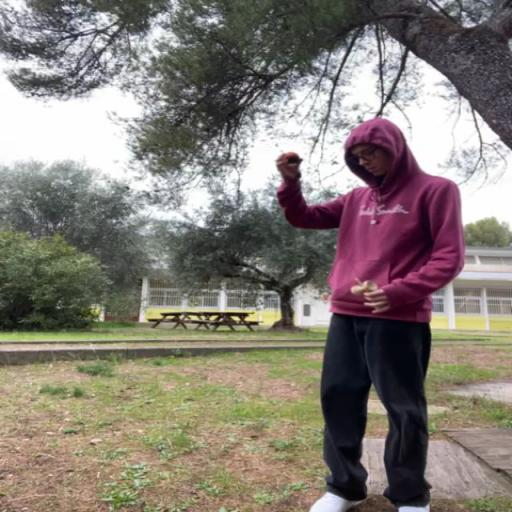kendama_ball: (282, 152, 298, 165)
